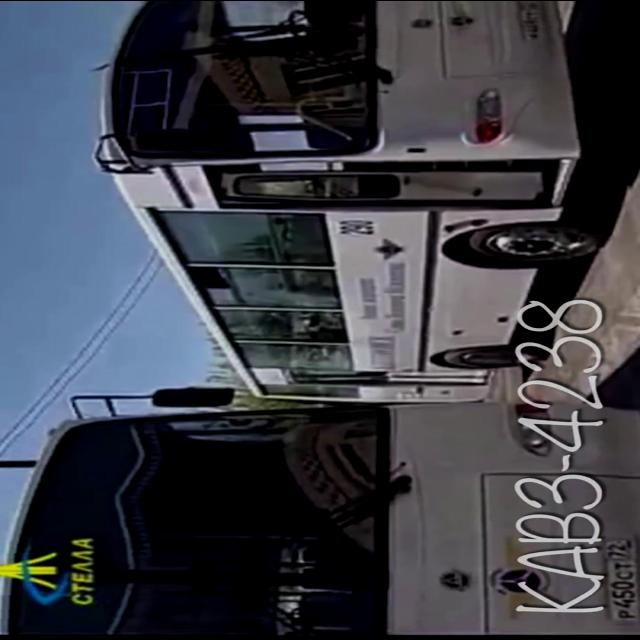bus: (88, 1, 614, 399), (1, 387, 640, 640)
